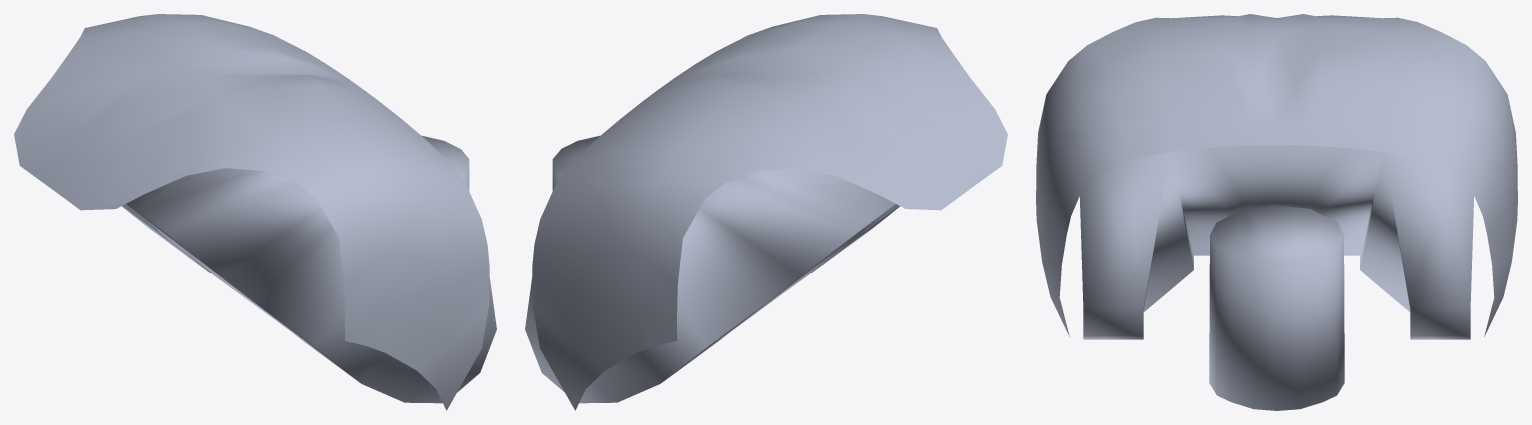
The model's file is lap_belt_1.dae.
The picture shows the model from 3 angles, left to right: view 1: azimuth 30°, elevation 25°; view 2: azimuth 150°, elevation 25°; view 3: azimuth 270°, elevation 25°; orthographic projection. The views are drawn at different scales.
Parts seen in each view (by area): view 1: pelvis_mesh; view 2: pelvis_mesh; view 3: pelvis_mesh.
Part boxes in pixels (bbox=[...]): pelvis_mesh: bbox=[14, 14, 496, 410]; pelvis_mesh: bbox=[525, 14, 1007, 410]; pelvis_mesh: bbox=[1036, 14, 1517, 410].
Size of the model in its own units: 0.1951 by 0.2202 by 0.136.
